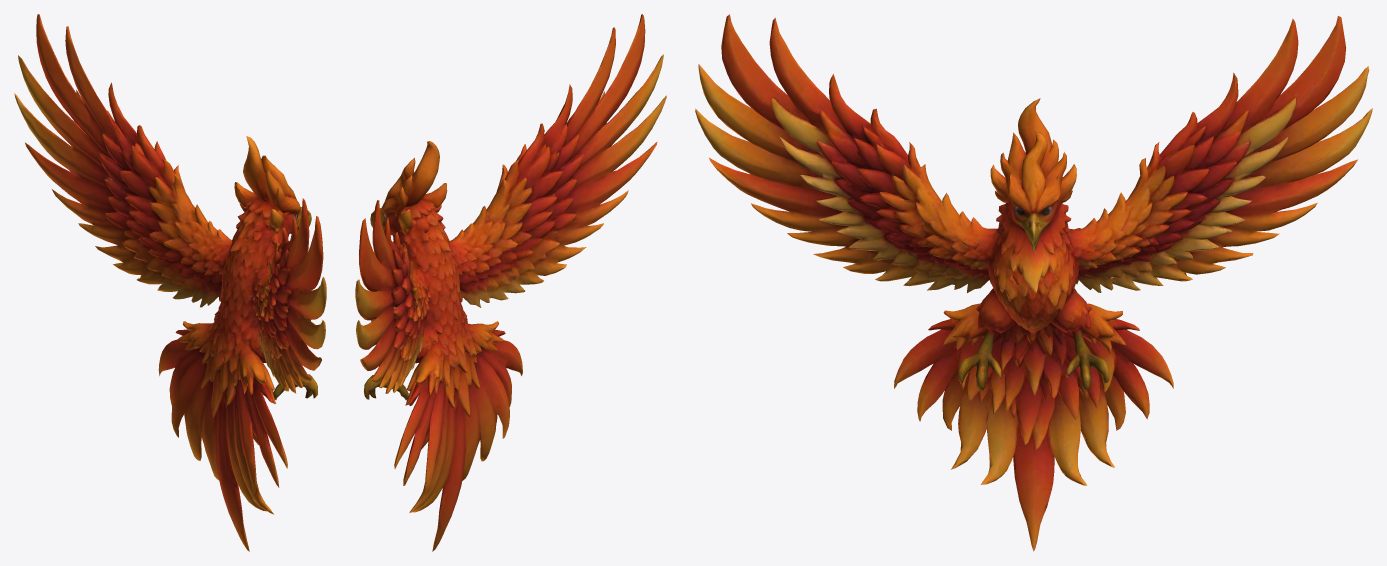
The model's file is firebird.glb.
3 views of the same model, side by side, from view 1: azimuth 30°, elevation 25°; view 2: azimuth 150°, elevation 25°; view 3: azimuth 270°, elevation 25° (orthographic). The views are drawn at different scales.
Parts seen in each view (by area): view 1: geometry_0; view 2: geometry_0; view 3: geometry_0.
Boxes of the visible parts, <box> form: geometry_0: <box>14,14,326,551</box>; geometry_0: <box>355,14,666,551</box>; geometry_0: <box>695,14,1372,551</box>.
Bounding box in the file's own units: 0.2671 × 0.8119 × 0.997.
Materials: 1 (1 with a texture image).
